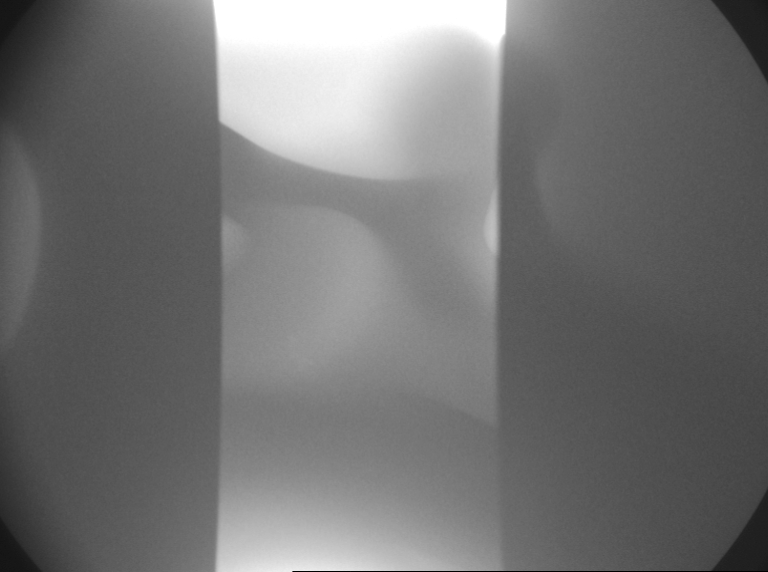defect: (282, 336, 322, 387)
